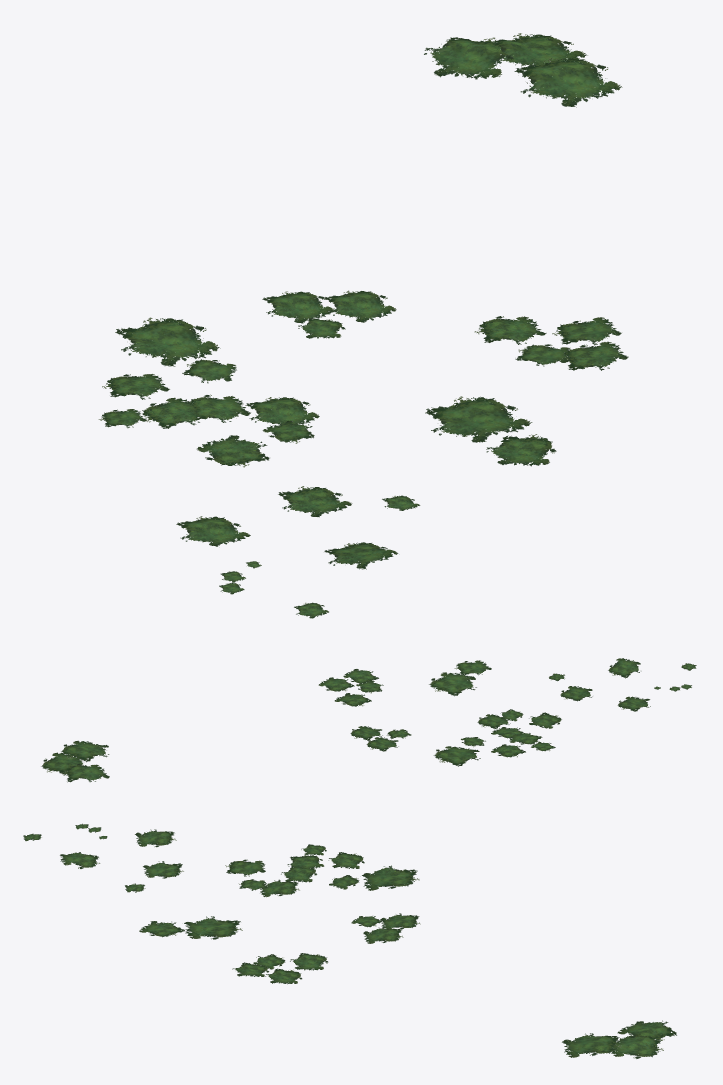
Rendered from Koke.fbx.
3 renders of one model, top to bottom at view 1: azimuth 30°, elevation 25°; view 2: azimuth 150°, elevation 25°; view 3: azimuth 270°, elevation 25°, orthographic. The views are drawn at different scales.
Parts seen in each view (by area): view 1: Plane.064; view 2: Plane.064; view 3: Plane.064.
Part boxes in pixels (bbox=[...]): Plane.064: bbox=[98, 33, 628, 618]; Plane.064: bbox=[41, 658, 696, 782]; Plane.064: bbox=[23, 823, 676, 1058].
Bounding box in the file's own units: 110 × 1.9 × 131.
Materials: 1 (1 with a texture image).
